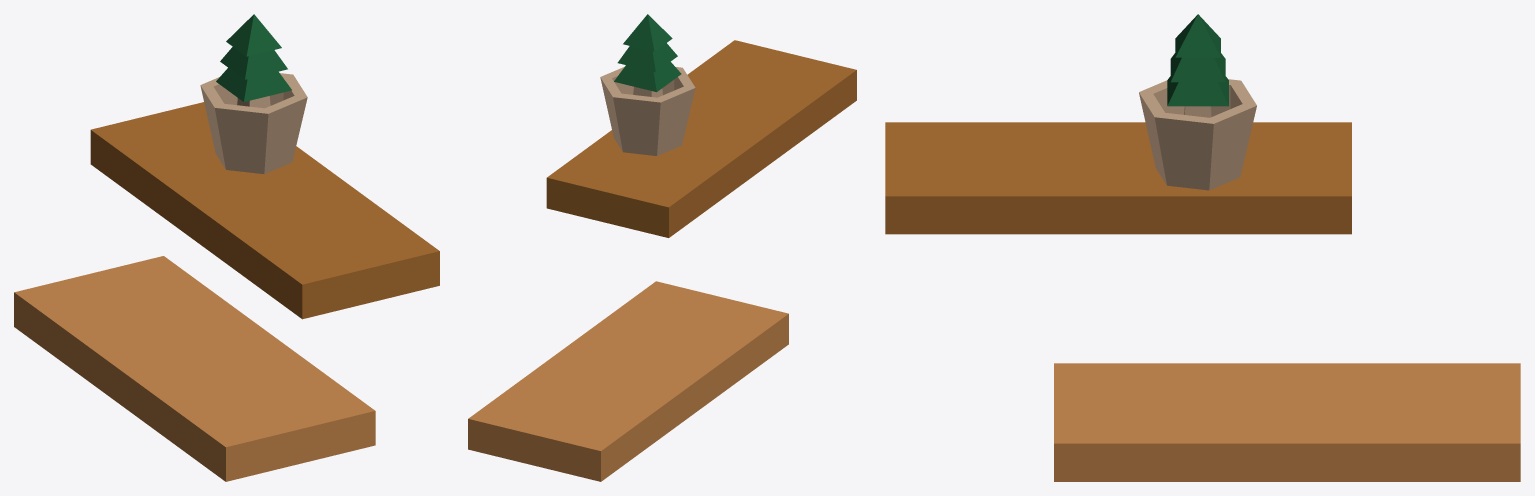
The model's file is bookshelves-transformed.glb.
3 views of the same model, side by side, from view 1: azimuth 30°, elevation 25°; view 2: azimuth 150°, elevation 25°; view 3: azimuth 270°, elevation 25° (orthographic). The views are drawn at different scales.
Visible parts, largest first — view 1: BookShelves, BookShelf1, Plant; view 2: BookShelves, BookShelf1, Plant; view 3: BookShelves, BookShelf1, Plant.
Part boxes in pixels (x1=…): BookShelves: x1=14, y1=256, x2=375, y2=481; BookShelf1: x1=90, y1=102, x2=439, y2=319; Plant: x1=200, y1=14, x2=307, y2=174; BookShelves: x1=468, y1=281, x2=788, y2=481; BookShelf1: x1=546, y1=40, x2=856, y2=237; Plant: x1=600, y1=14, x2=695, y2=155; BookShelves: x1=1054, y1=363, x2=1520, y2=481; BookShelf1: x1=885, y1=122, x2=1351, y2=234; Plant: x1=1139, y1=14, x2=1256, y2=190.
Bounding box in the file's own units: 0.6189 × 1.57 × 2.06.
